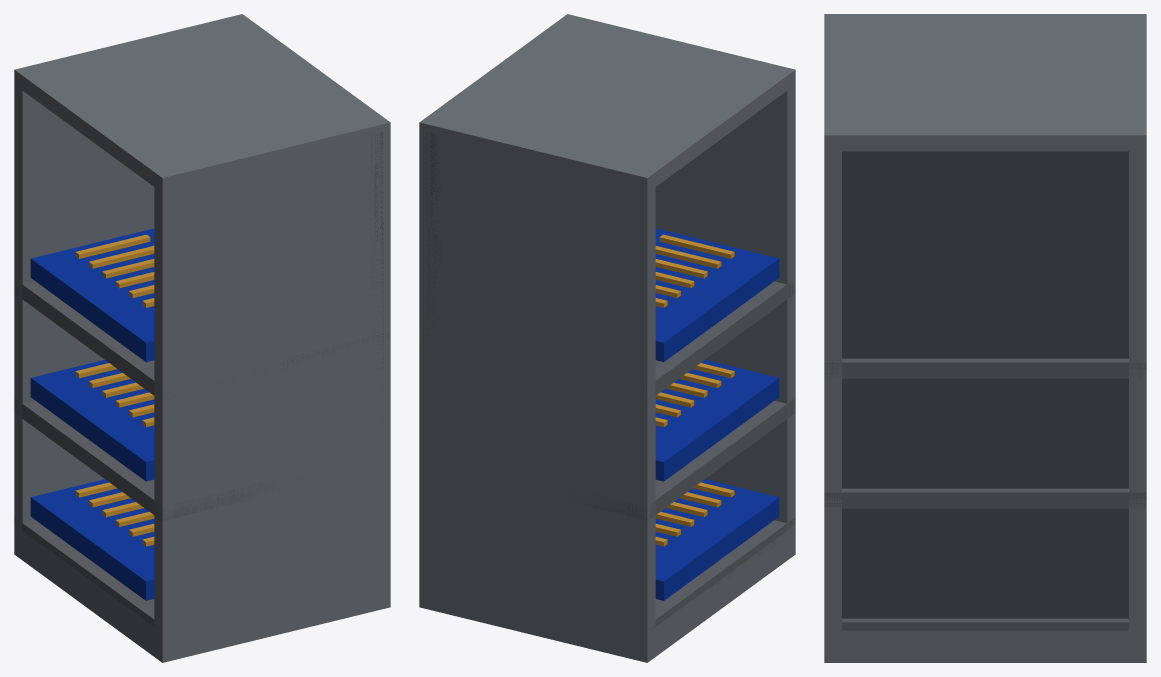
The model's file is L32_LAN_USB_C.obj.
The picture shows the model from 3 angles, left to right: view 1: azimuth 30°, elevation 25°; view 2: azimuth 150°, elevation 25°; view 3: azimuth 270°, elevation 25°; orthographic projection. The views are drawn at different scales.
Visible parts, largest first — view 1: LAN_USB_C_Steel, LAN_USB_C_Blue, LAN_USB_C_Silver, LAN_USB_C_Gold, LAN_USB_C_Gray; view 2: LAN_USB_C_Steel, LAN_USB_C_Blue, LAN_USB_C_Silver, LAN_USB_C_Gold; view 3: LAN_USB_C_Gray, LAN_USB_C_Steel, LAN_USB_C_Silver.
Part boxes in pixels (x1=…): LAN_USB_C_Steel: x1=14, y1=14, x2=390, y2=662; LAN_USB_C_Blue: x1=30, y1=228, x2=154, y2=600; LAN_USB_C_Silver: x1=14, y1=280, x2=389, y2=632; LAN_USB_C_Gold: x1=75, y1=234, x2=154, y2=546; LAN_USB_C_Gray: x1=369, y1=132, x2=383, y2=422; LAN_USB_C_Steel: x1=419, y1=14, x2=795, y2=662; LAN_USB_C_Blue: x1=655, y1=228, x2=779, y2=600; LAN_USB_C_Silver: x1=422, y1=279, x2=795, y2=630; LAN_USB_C_Gold: x1=655, y1=234, x2=734, y2=546; LAN_USB_C_Gray: x1=842, y1=151, x2=1128, y2=618; LAN_USB_C_Steel: x1=824, y1=14, x2=1146, y2=662; LAN_USB_C_Silver: x1=824, y1=358, x2=1146, y2=630.
Size of the model in its own units: 0.016 by 0.0325 by 0.018.
